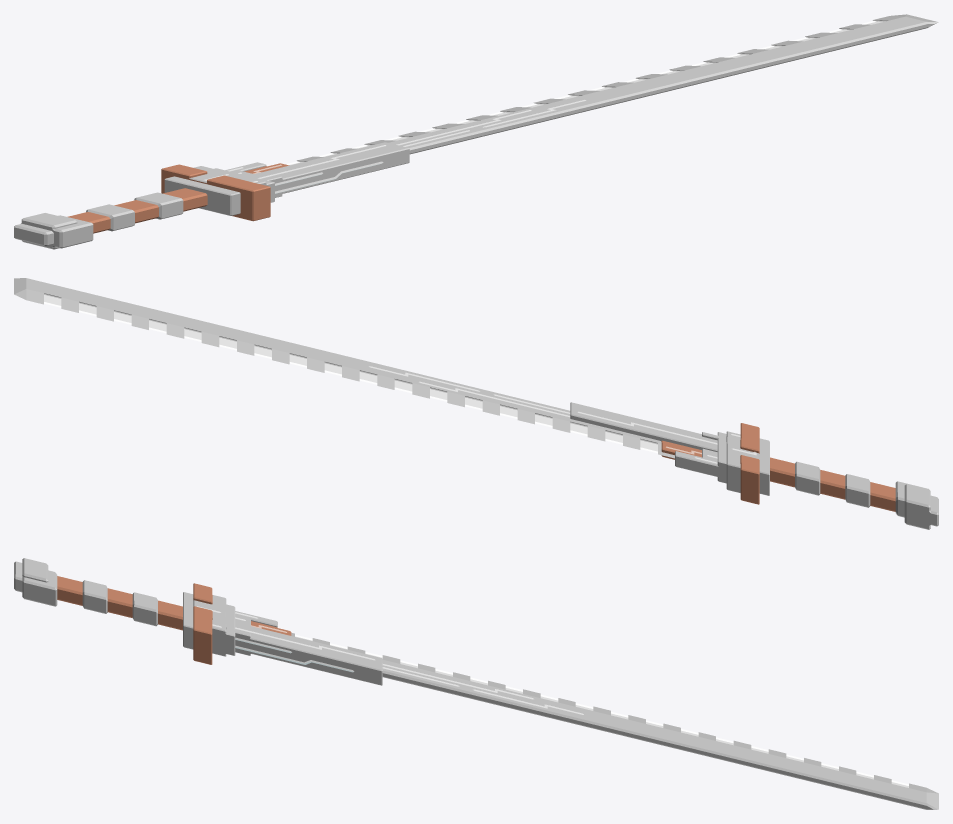
File: weap2_sword.fbx
3 views of the same model, one above another, from view 1: azimuth 30°, elevation 25°; view 2: azimuth 150°, elevation 25°; view 3: azimuth 330°, elevation 25° (orthographic). The views are drawn at different scales.
Parts seen in each view (by area): view 1: weap2_sword; view 2: weap2_sword; view 3: weap2_sword.
Part boxes in pixels (x1,y1,x2,y2): weap2_sword: (14, 14, 938, 249); weap2_sword: (14, 278, 938, 529); weap2_sword: (14, 558, 938, 809).
Bounding box in the file's own units: 126 × 4.08 × 11.15.
